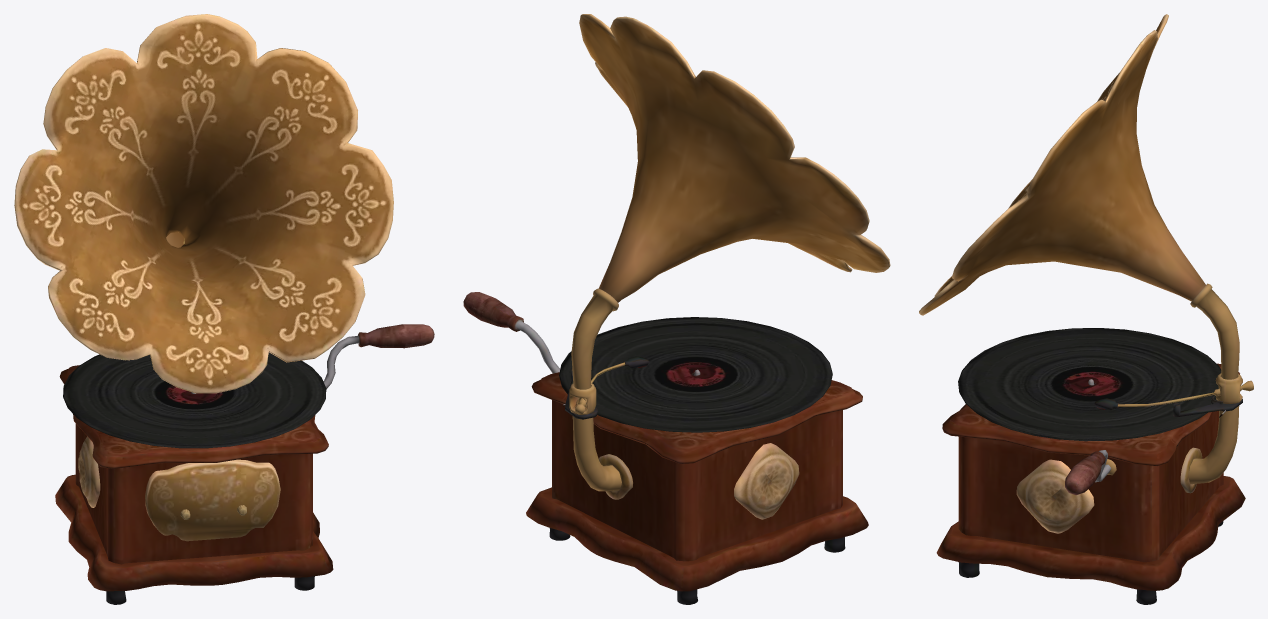
Rendered from gramofone.glb.
3 views of the same model, side by side, from view 1: azimuth 30°, elevation 25°; view 2: azimuth 150°, elevation 25°; view 3: azimuth 270°, elevation 25° (orthographic). The views are drawn at different scales.
Parts seen in each view (by area): view 1: Wooden_bot_lp.002_recordplayer_0, vinyl_lp_Material.010_0; view 2: Wooden_bot_lp.002_recordplayer_0, vinyl_lp_Material.010_0; view 3: Wooden_bot_lp.002_recordplayer_0, vinyl_lp_Material.010_0.
Part boxes in pixels (bbox=[...]): Wooden_bot_lp.002_recordplayer_0: bbox=[14, 14, 434, 604]; vinyl_lp_Material.010_0: bbox=[63, 352, 326, 448]; Wooden_bot_lp.002_recordplayer_0: bbox=[463, 14, 890, 604]; vinyl_lp_Material.010_0: bbox=[559, 317, 832, 432]; Wooden_bot_lp.002_recordplayer_0: bbox=[919, 14, 1253, 604]; vinyl_lp_Material.010_0: bbox=[958, 328, 1221, 441].
Bounding box in the file's own units: 0.8823 × 1.08 × 0.6267.
Materials: 2 (2 with a texture image).
